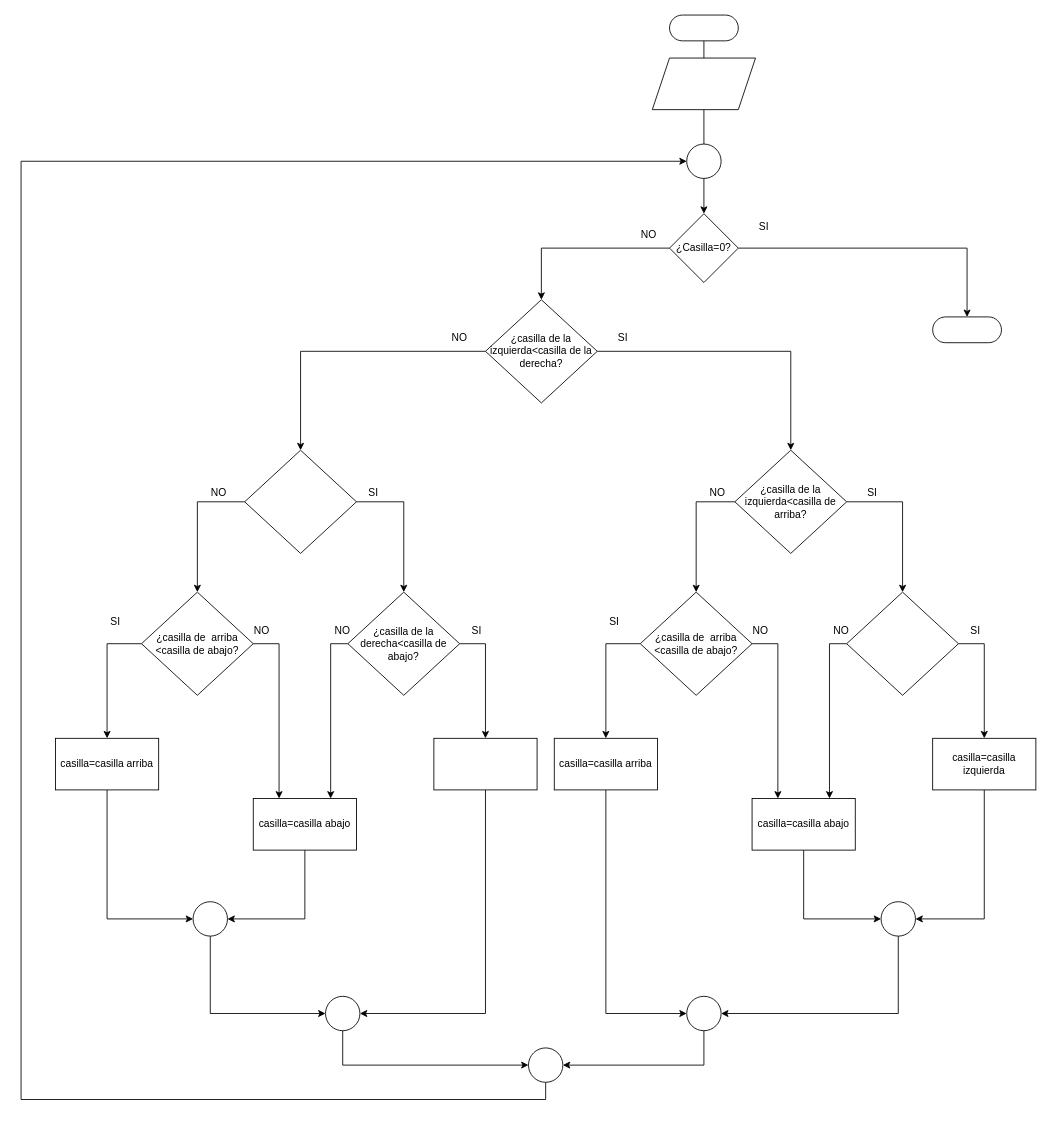
Some shapes in this 1051 by 1121 pixel diagram are drawn without their labels. Each missing label, with the box of its shape:
casilla: (651, 57, 756, 110)
casilla=casilla derecha: (433, 737, 537, 790)
FIN: (932, 316, 1001, 343)
INICIO: (669, 14, 738, 41)
¿casilla de la derecha<casilla de arriba?: (244, 449, 356, 553)
¿casilla de la izquierda<casilla de abajo?: (846, 591, 958, 695)
